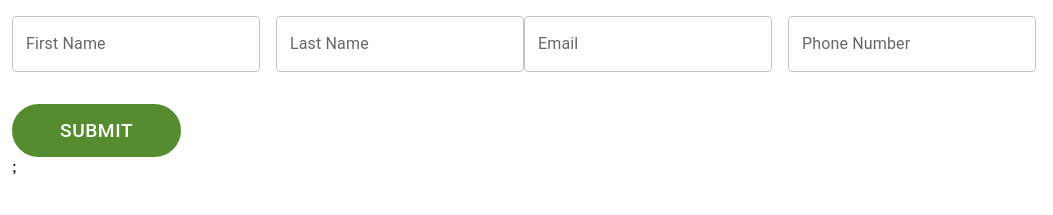
it: Form validation › Shows error message if email is invalid
Type "thisisaneamil@" into the field with test id "email" at coordinates (648, 44), box [524,16,772,72]
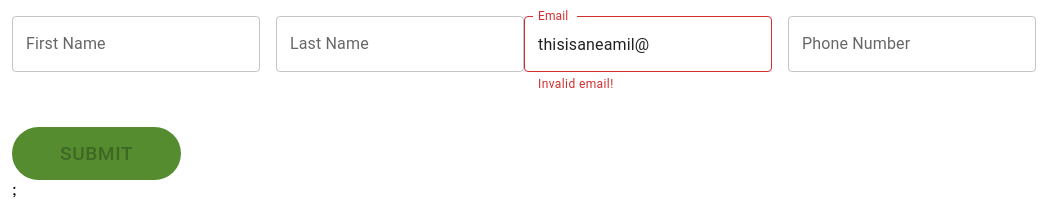
Result: the text with test id "email-error" reads "Invalid email!" at [538,77,614,91]
